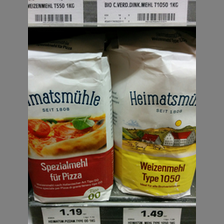flour: (28, 50, 115, 201), (112, 49, 196, 199)
